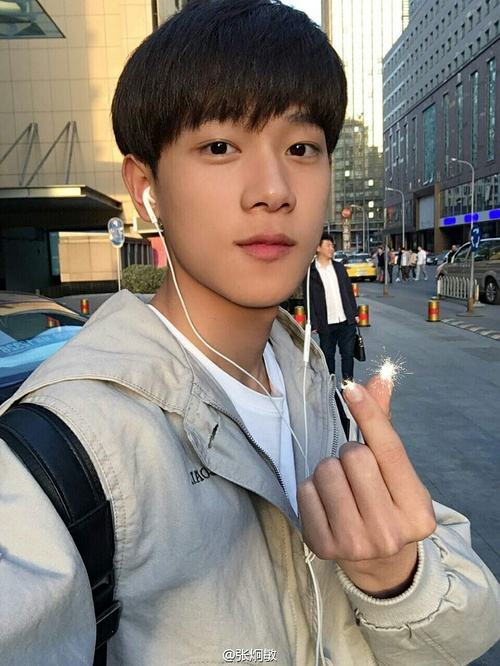person: (61, 17, 411, 556)
